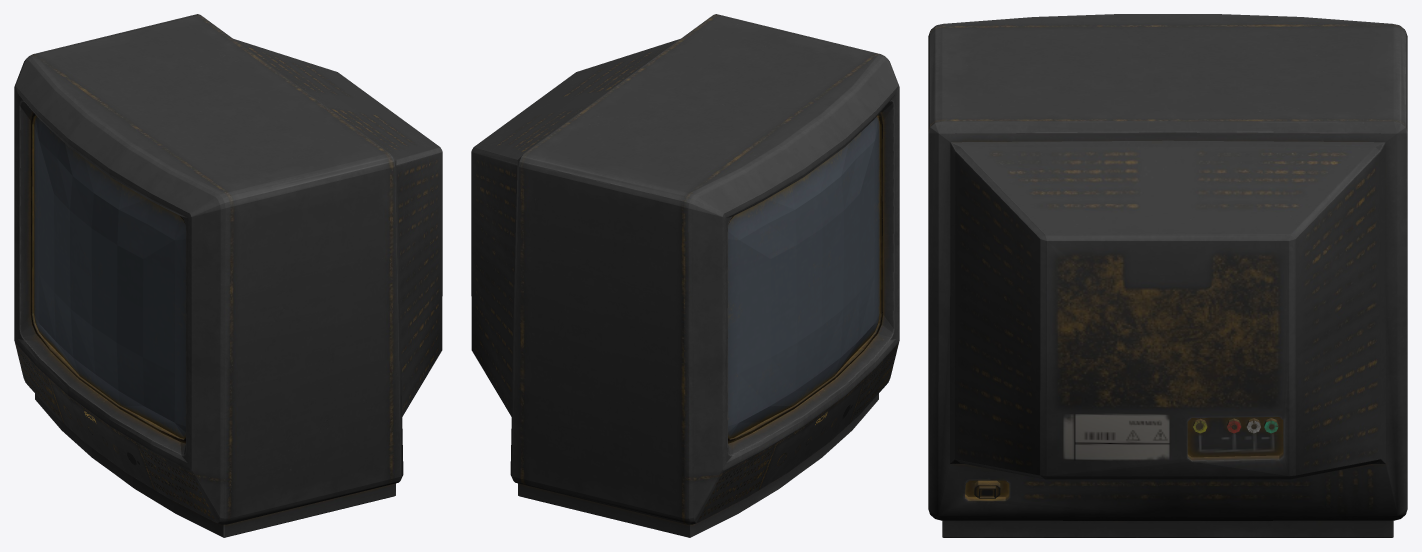
File: R471NYP16HGJGU9S7TBFXBO3E.obj
3 views of the same model, side by side, from view 1: azimuth 30°, elevation 25°; view 2: azimuth 150°, elevation 25°; view 3: azimuth 270°, elevation 25° (orthographic). The views are drawn at different scales.
Visible parts, largest first — view 1: Object_TexMap; view 2: Object_TexMap; view 3: Object_TexMap.
Part boxes in pixels (x1,y1,x2,y2): Object_TexMap: [14, 14, 442, 537]; Object_TexMap: [471, 14, 899, 537]; Object_TexMap: [928, 14, 1407, 537].
Bounding box in the file's own units: 2.19 × 2.37 × 2.5.
Materials: 1 (1 with a texture image).
